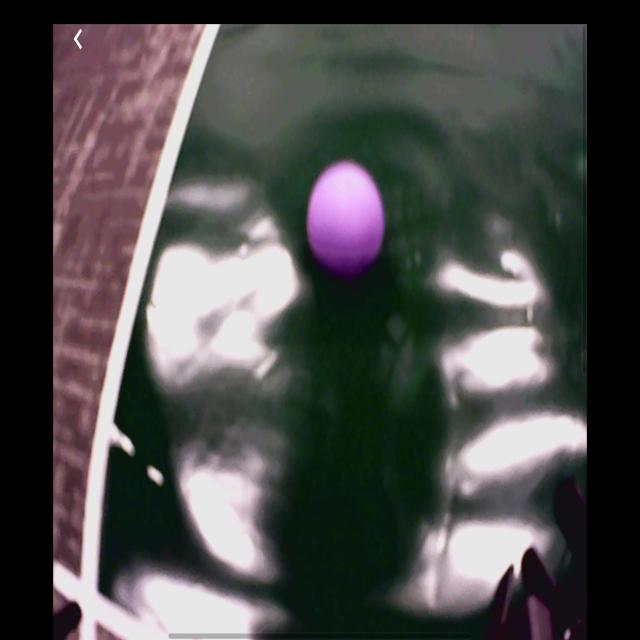ball: (309, 163, 384, 274)
